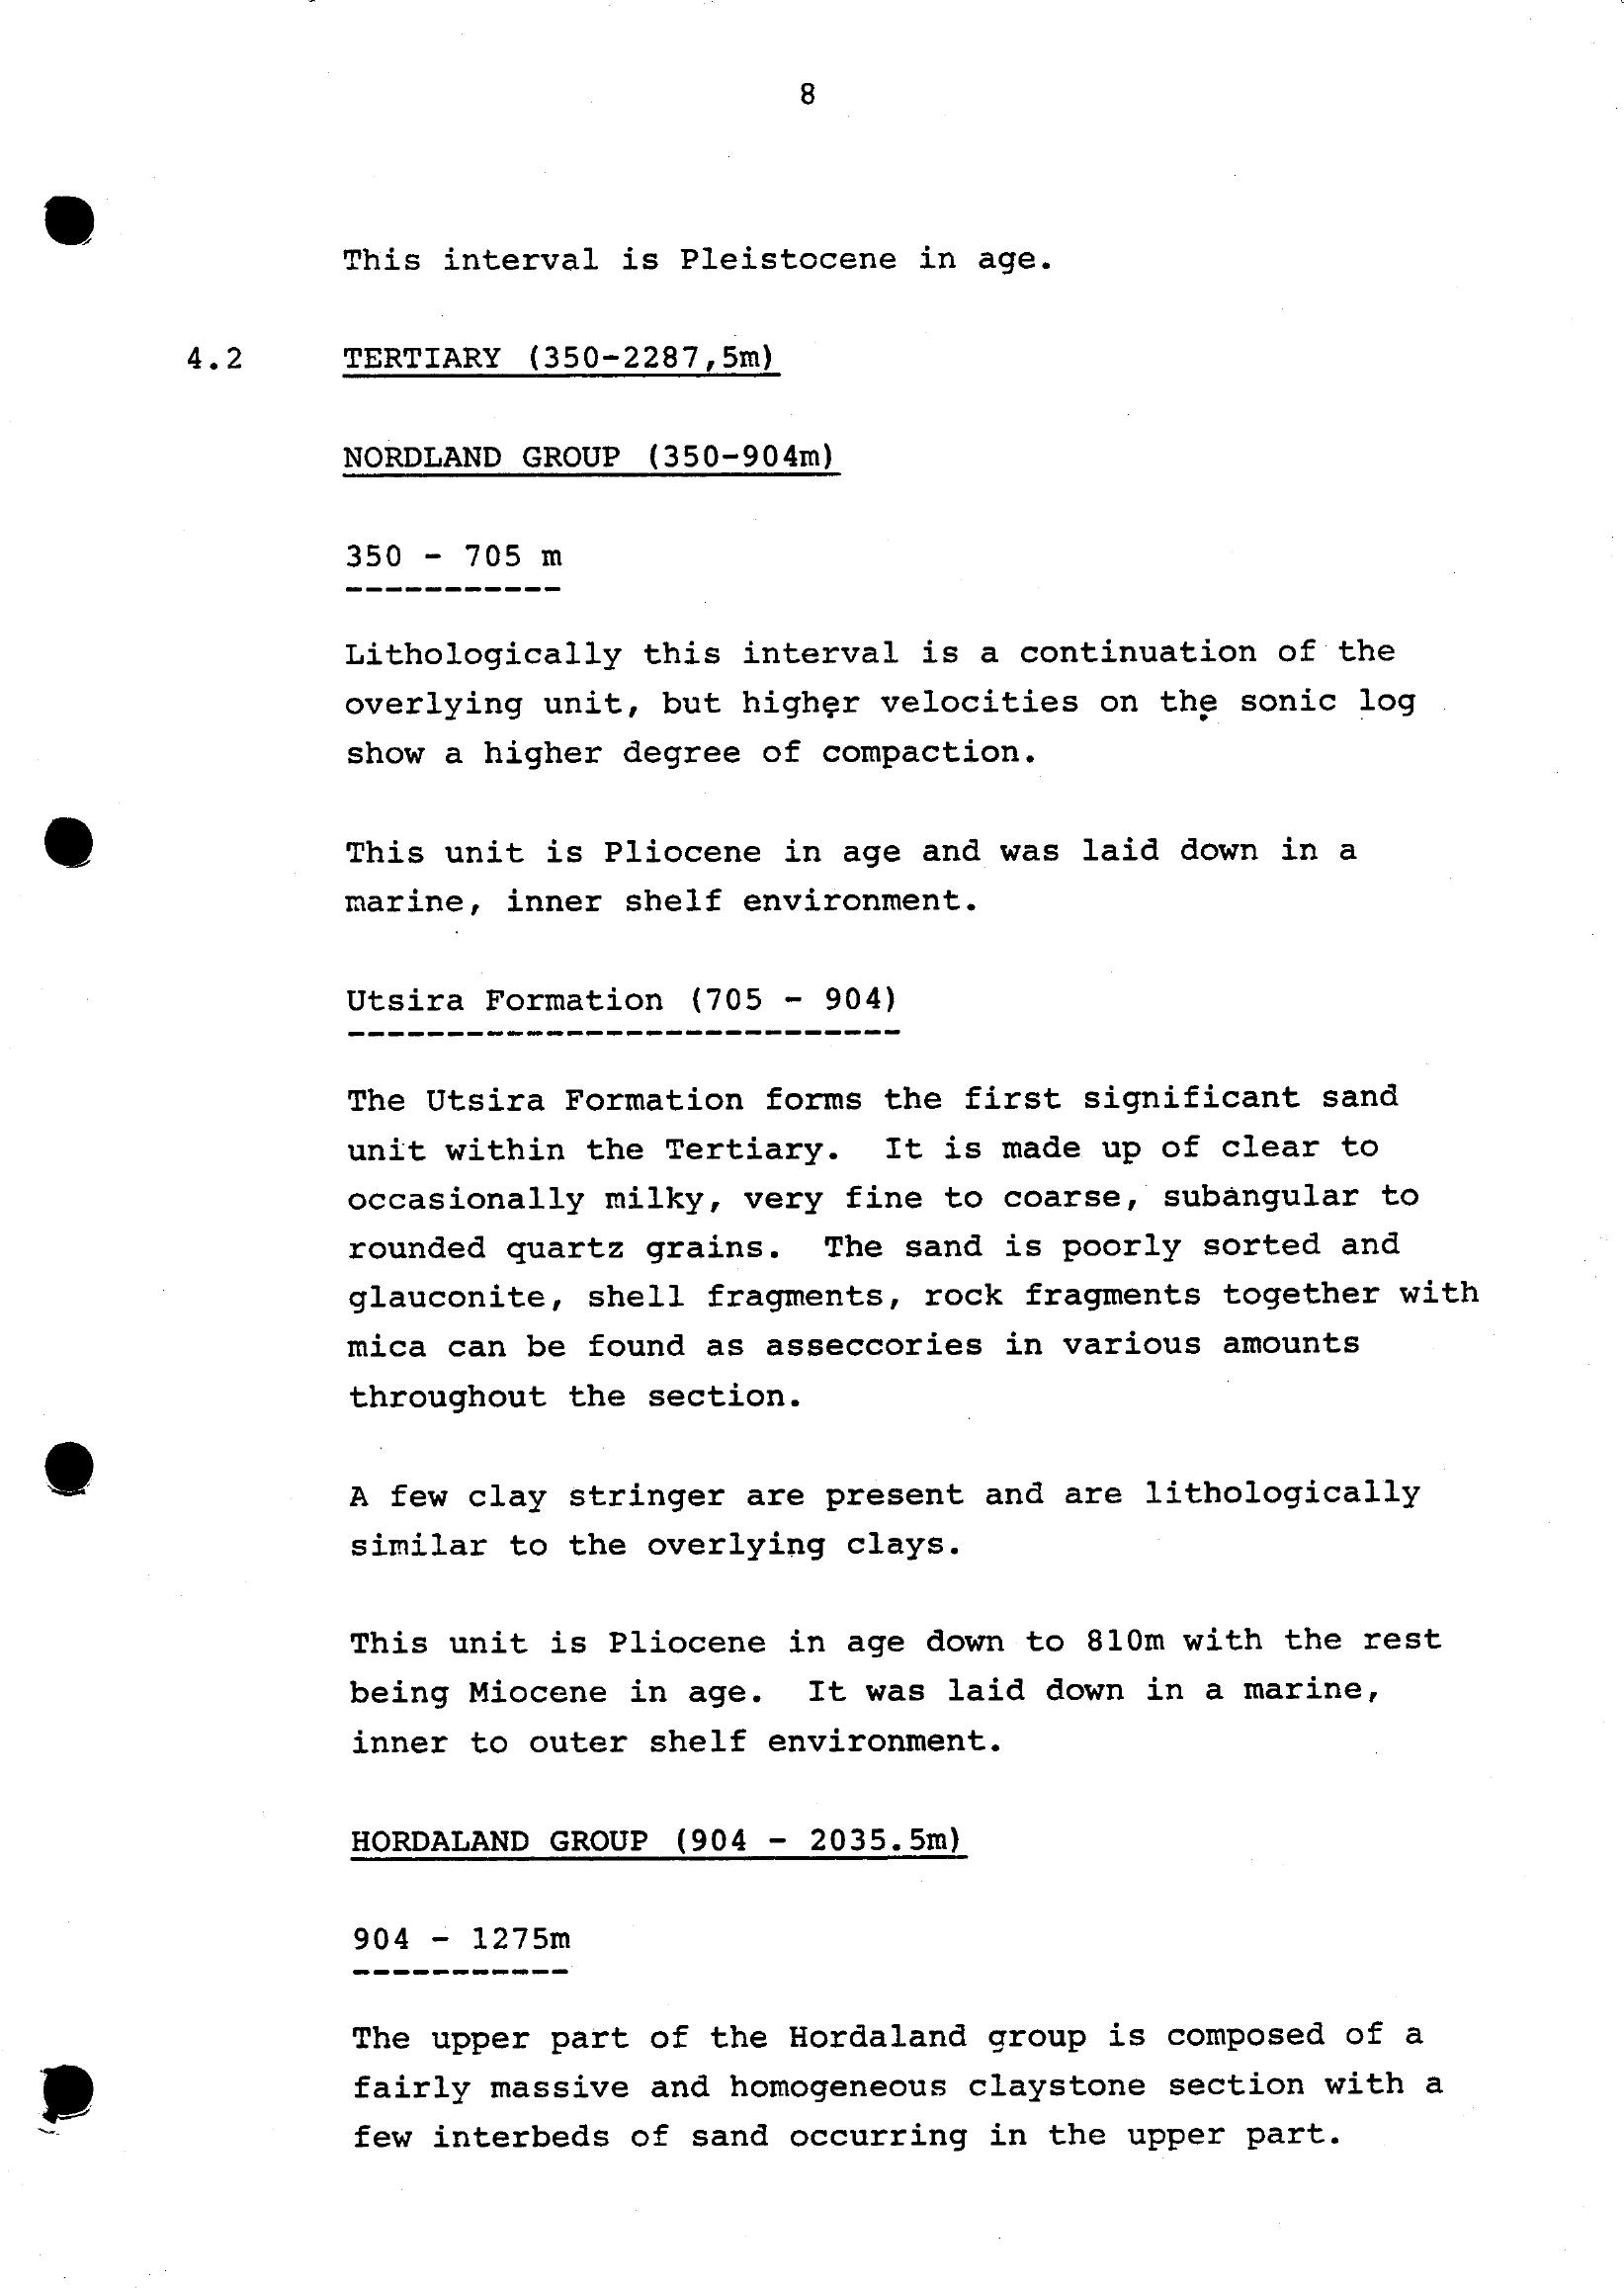text: (301, 322, 1501, 1791), (292, 1815, 1536, 2234), (313, 227, 1097, 292)
